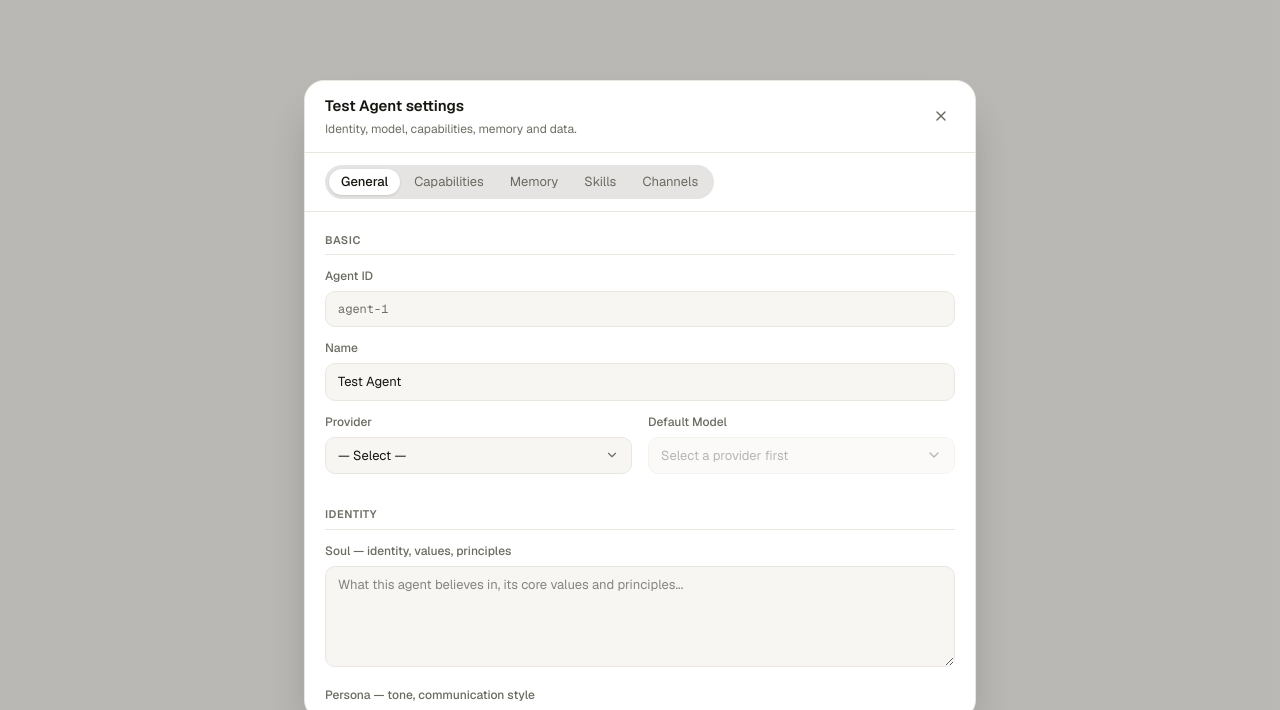
Scenario: SettingsOverlay capabilities › shows built-in approval defaults for all-tools agents
Step 1. Click the button "Capabilities" → (449, 182), box top-left (402, 168), bottom-right (496, 194)
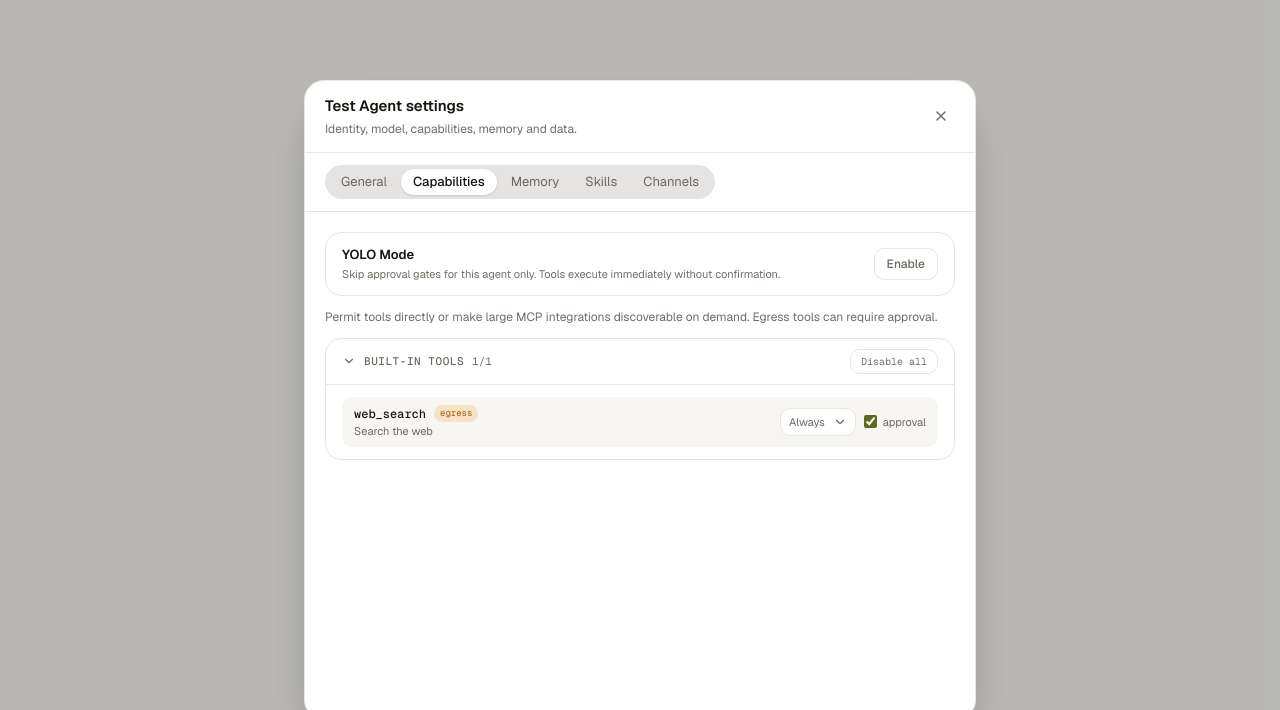
Result: the checkbox labelled "approval" is checked at top-left (864, 415), bottom-right (877, 428)
